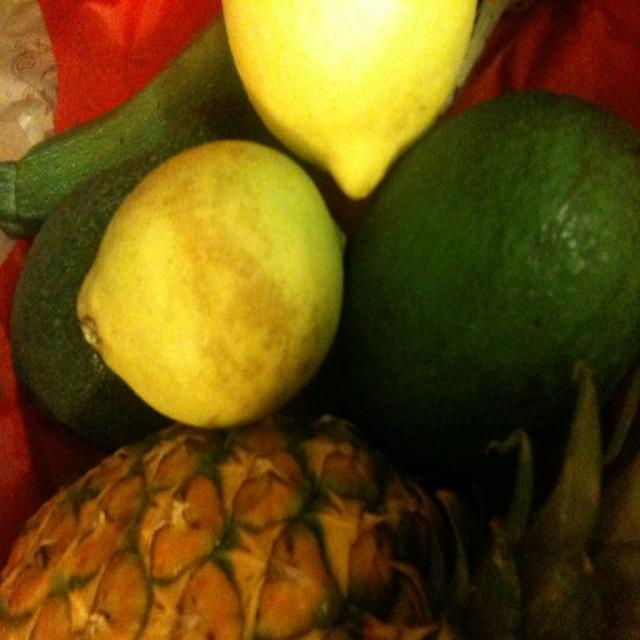Lemon: (74, 138, 352, 428), (221, 0, 479, 200)
